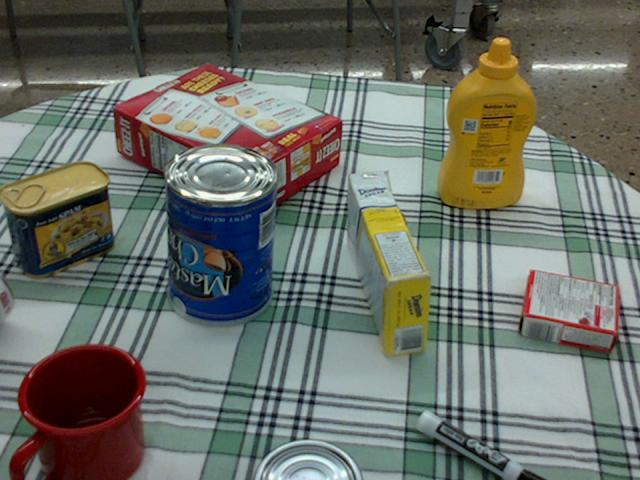cracker_box: (112, 65, 340, 215)
gelatin_box: (518, 270, 616, 353)
large_marker: (416, 410, 545, 479)
master_chef_can: (161, 142, 275, 326)
mug: (12, 341, 141, 479)
mustard_bottle: (436, 38, 534, 207)
potted_meat_can: (0, 161, 113, 277)
sugar_box: (345, 172, 430, 355)
tomato_soup_can: (0, 276, 11, 322)
tuna_fish_can: (250, 441, 360, 479)
